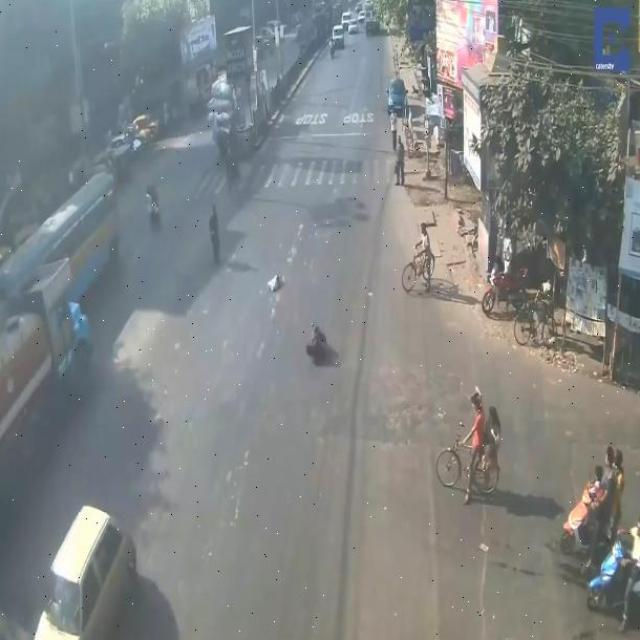accident: (33, 502, 139, 640), (297, 315, 341, 380)
